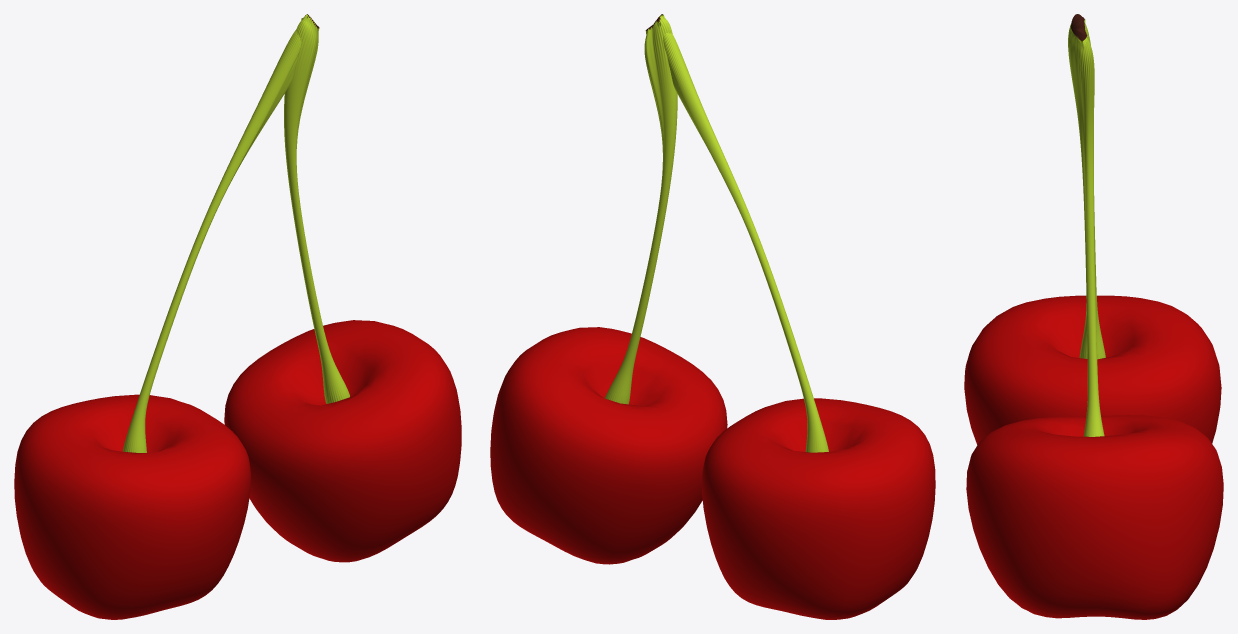
The model's file is Cherry.glb.
3 views of the same model, side by side, from view 1: azimuth 30°, elevation 25°; view 2: azimuth 150°, elevation 25°; view 3: azimuth 270°, elevation 25° (orthographic). The views are drawn at different scales.
Parts seen in each view (by area): view 1: Cube, Cube.001, Cylinder.001, Cylinder; view 2: Cube, Cube.001, Cylinder, Cylinder.001; view 3: Cube, Cube.001, Cylinder, Cylinder.001.
Part boxes in pixels (<box>): Cube: <box>224,320,461,562</box>; Cube.001: <box>14,394,250,619</box>; Cylinder.001: <box>122,30,301,452</box>; Cylinder: <box>284,14,349,403</box>; Cube: <box>490,327,727,564</box>; Cube.001: <box>702,398,935,619</box>; Cylinder: <box>604,14,677,404</box>; Cylinder.001: <box>663,32,828,452</box>; Cube: <box>966,415,1223,619</box>; Cube.001: <box>964,295,1221,444</box>; Cylinder: <box>1068,14,1104,436</box>; Cylinder.001: <box>1079,40,1105,359</box>.
Bounding box in the file's own units: 2.3 × 2.86 × 1.17.
